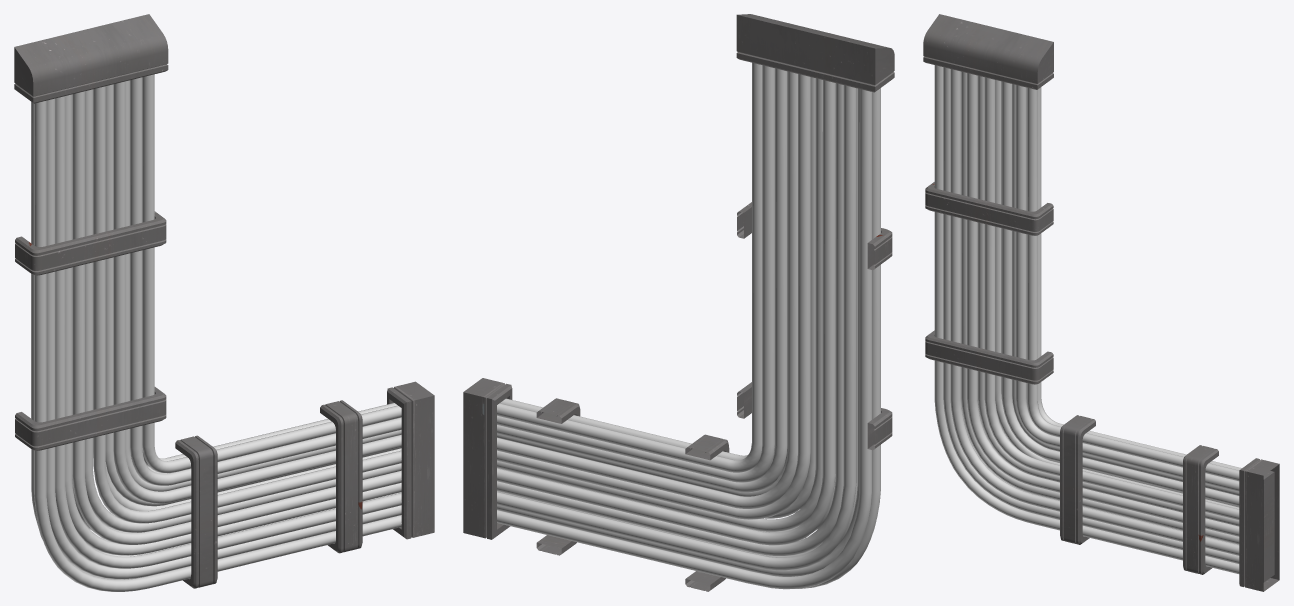
The model's file is KB3D_CBP_Cables_A.fbx.
3 renders of one model, left to right at view 1: azimuth 30°, elevation 25°; view 2: azimuth 150°, elevation 25°; view 3: azimuth 330°, elevation 25°, orthographic. The views are drawn at different scales.
Parts seen in each view (by area): view 1: KB3D_CBP_Cables_A_Main; view 2: KB3D_CBP_Cables_A_Main; view 3: KB3D_CBP_Cables_A_Main.
Boxes of the visible parts, left/top/right/bottom form: KB3D_CBP_Cables_A_Main: left=14, top=14, right=434, bottom=591; KB3D_CBP_Cables_A_Main: left=463, top=14, right=894, bottom=591; KB3D_CBP_Cables_A_Main: left=923, top=14, right=1279, bottom=591.
Size of the model in its own units: 387 by 525 by 32.7.
